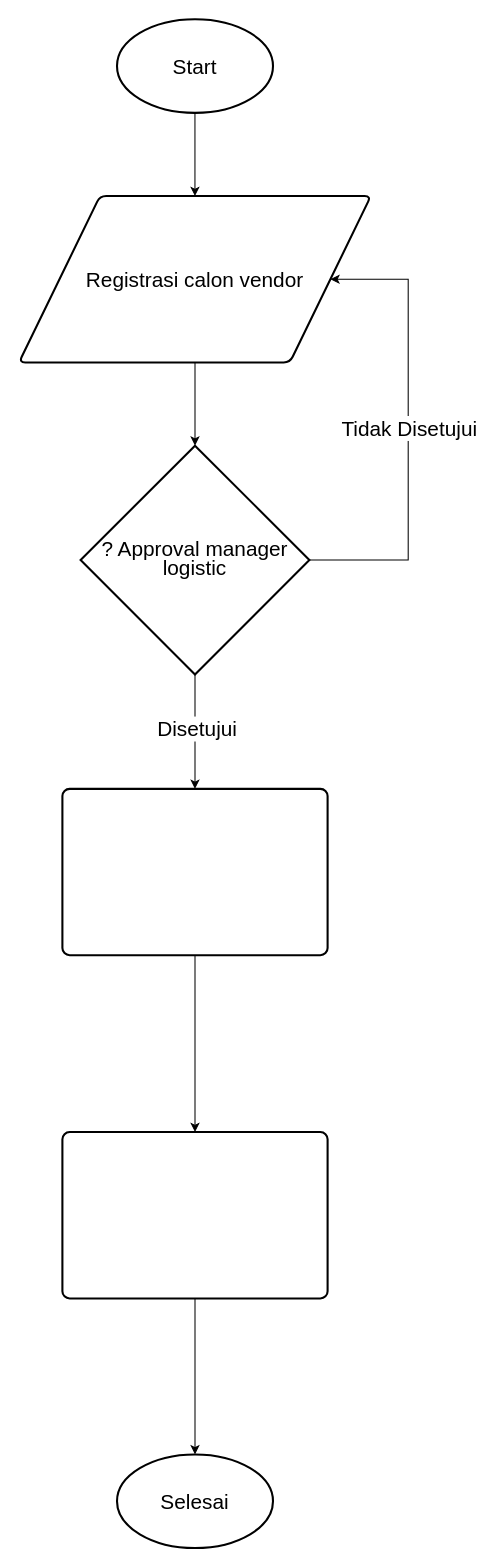
The diagram is 494 pixels wide and 1566 high, and some of its shapes have lost their labels. Here are the shapes that lost their labels. From the top down, the box of each, then its label:
(61, 787, 328, 956): Melengkapi data Vendor
(61, 1130, 328, 1299): Submit tender Proyek
